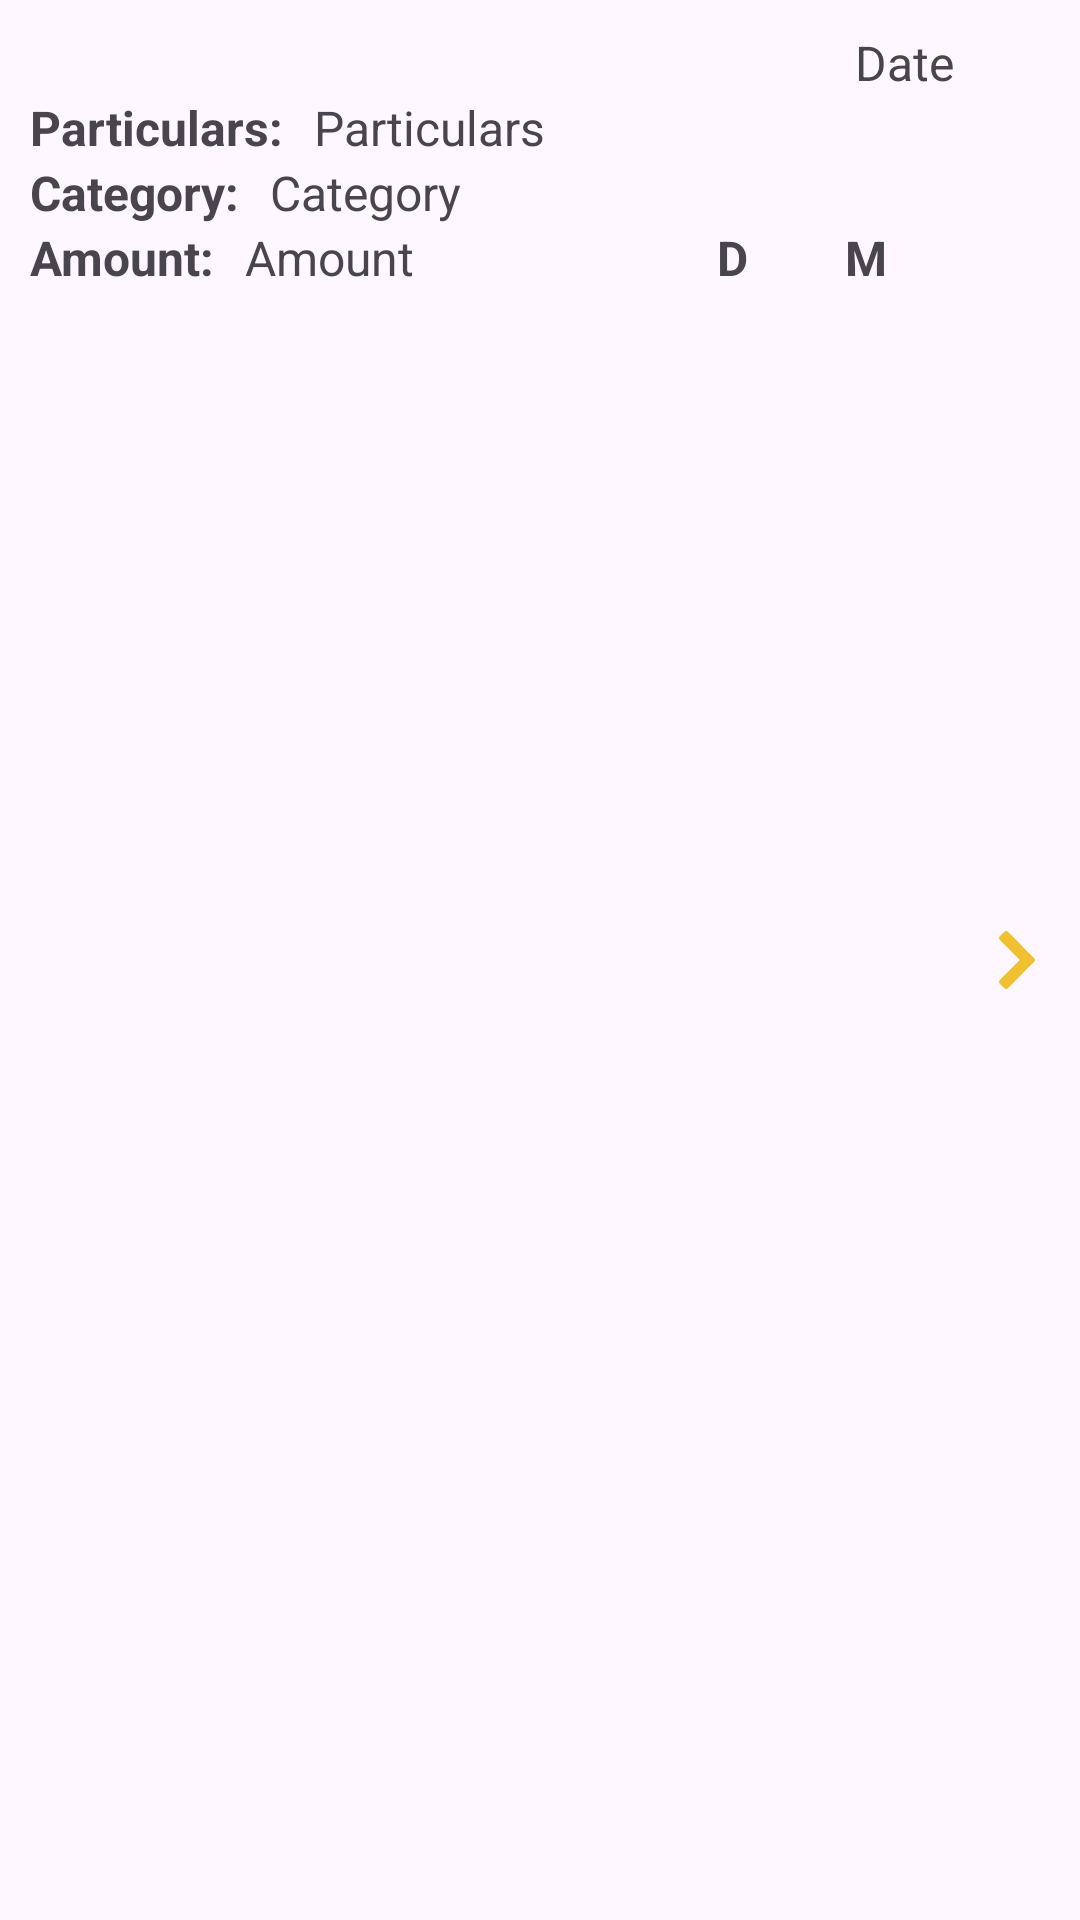

Point at icon controls on the screen. Image size 1080 × 1920, points as point (x, y).
arrow next right: point (1017, 960)
